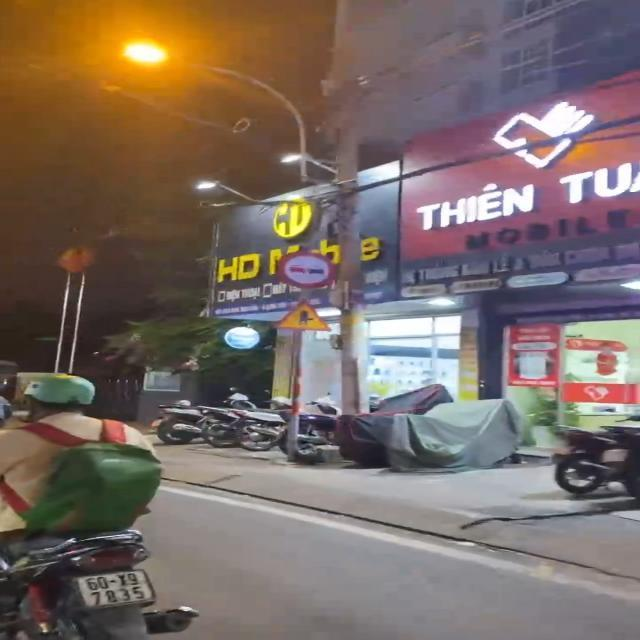125-cam-vuot: (276, 251, 336, 289)
207-giao-nhau-voi-duong-khong-uu-tien: (271, 298, 333, 332)
